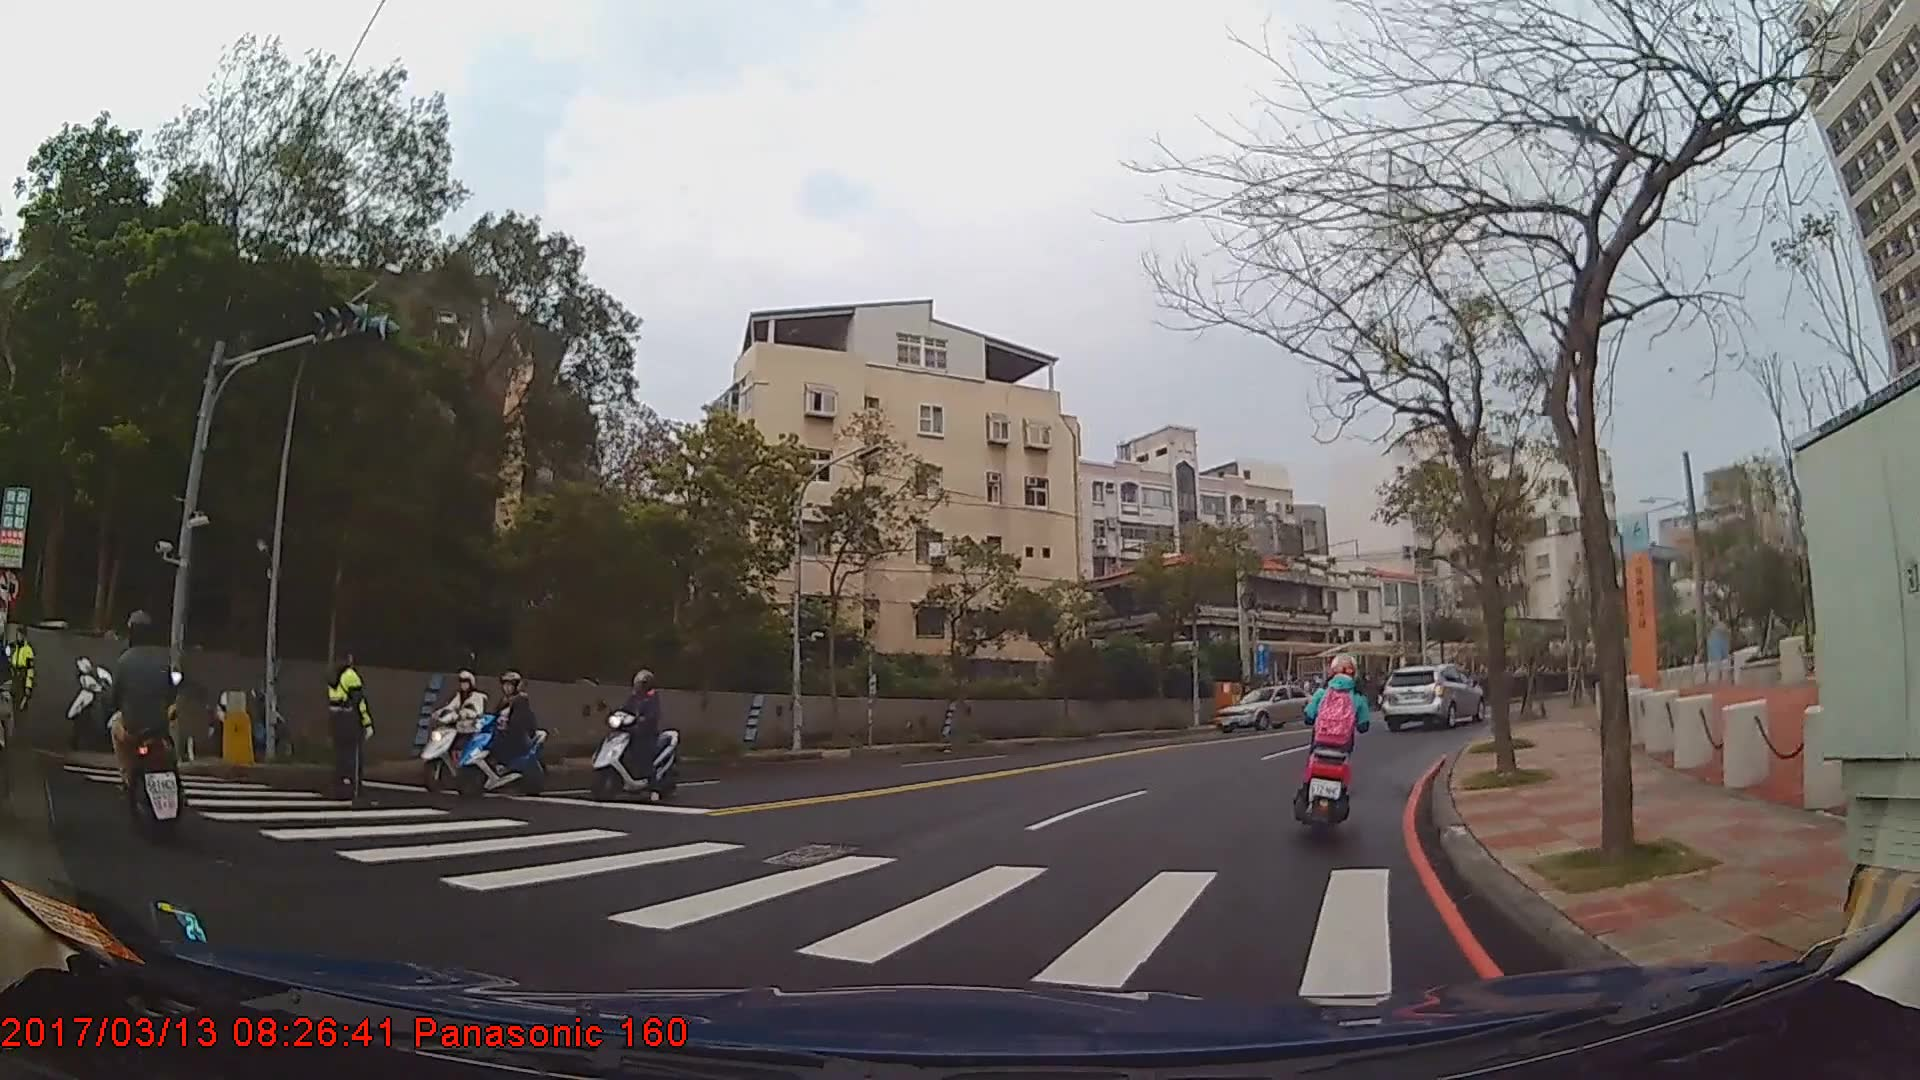pedestrian: (324, 640, 377, 800), (1, 623, 42, 742)
rider: (96, 607, 186, 837), (1296, 654, 1371, 827), (591, 671, 682, 802), (464, 669, 545, 793), (420, 668, 502, 787)
vehicle: (1377, 662, 1486, 728), (1214, 685, 1317, 735)
